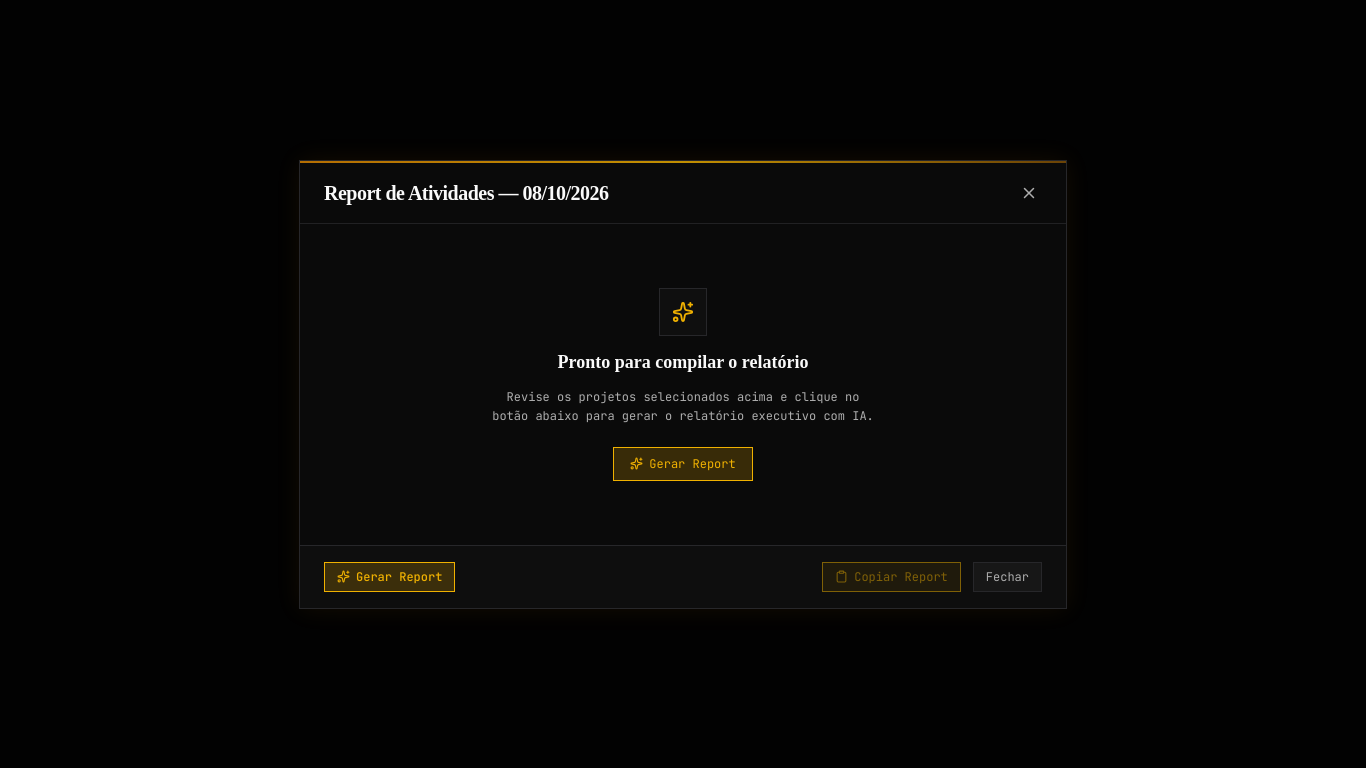
Test: DailyReportModal › shows clean error message and settings link when LLM key is not configured
Click "Gerar Report"
Click the button "Gerar Report" below "Pronto para compilar o relatório".
click(683, 464)  # box [613,446,753,480]
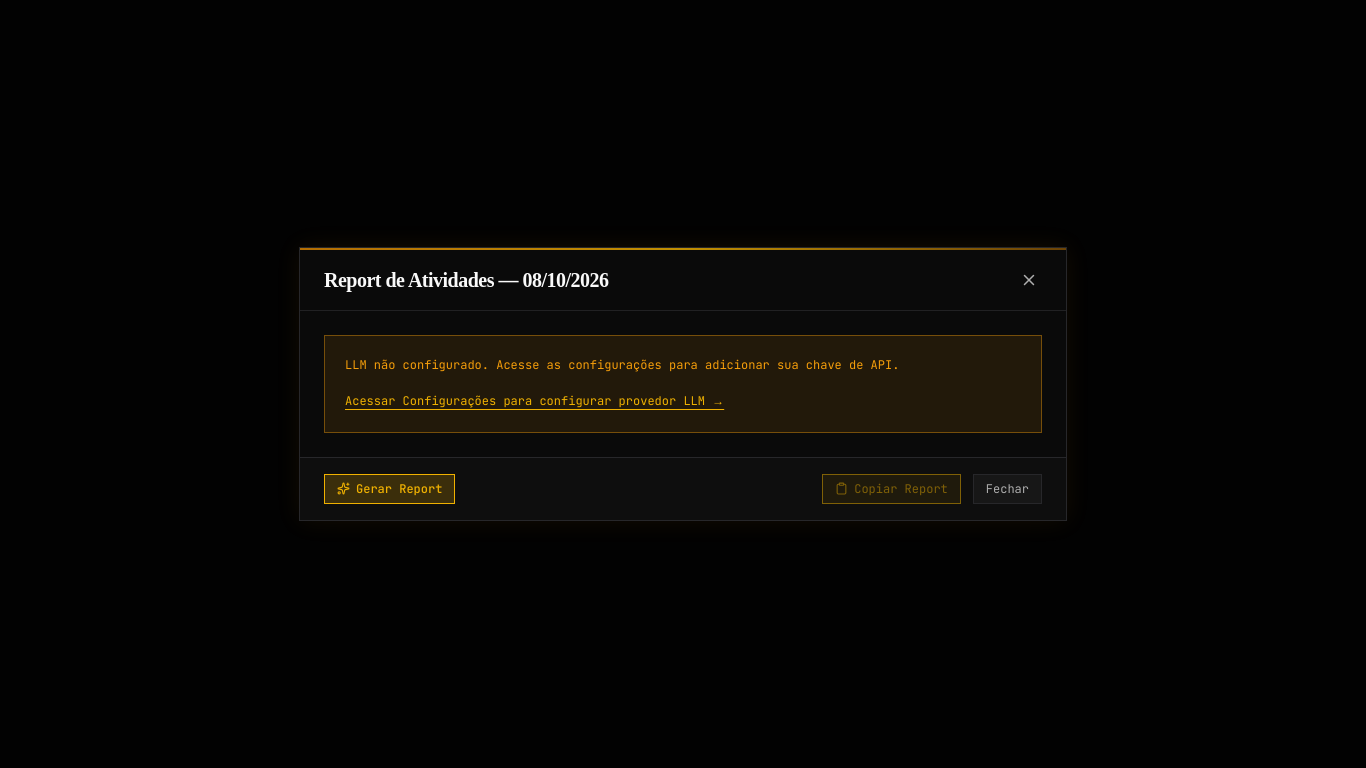
Check: the text "LLM não configurado. Acesse as configurações para adicionar sua chave de API." is shown, box [345,357,899,373]
Check: the link "Acessar Configurações para configurar provedor LLM →" is shown, box [345,393,724,409]
